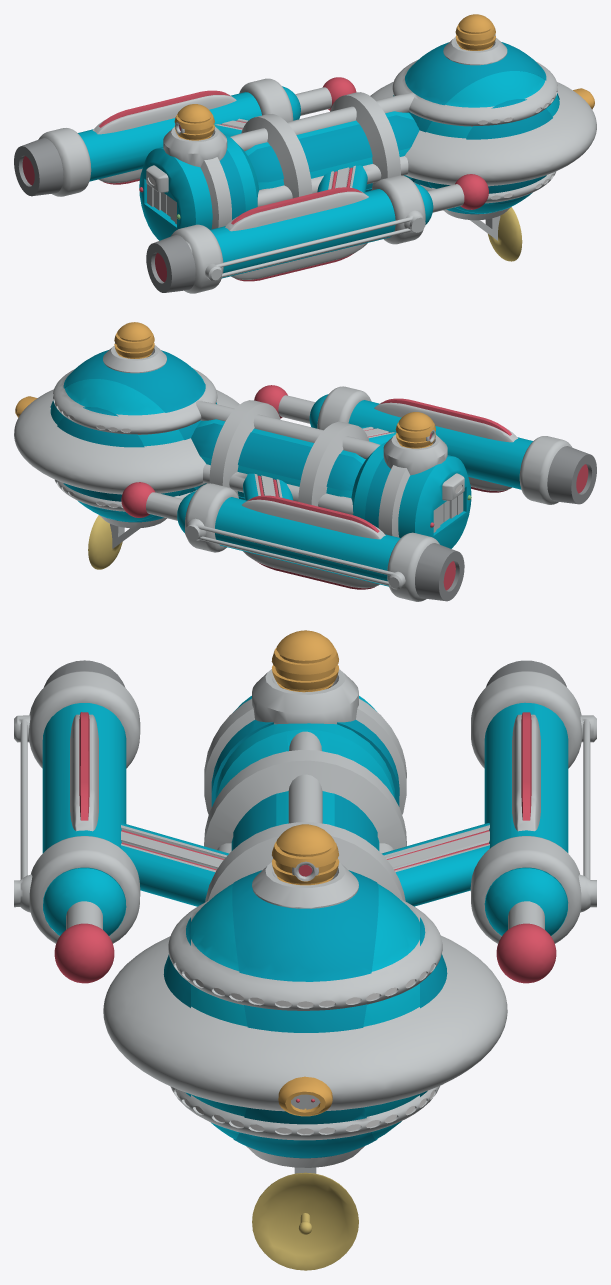
Rendered from ear-victory.glb.
The picture shows the model from 3 angles, top to bottom: view 1: azimuth 30°, elevation 25°; view 2: azimuth 150°, elevation 25°; view 3: azimuth 270°, elevation 25°; orthographic projection. The views are drawn at different scales.
Parts seen in each view (by area): view 1: Victory current hull - authored COLOR_0 regions; view 2: Victory current hull - authored COLOR_0 regions; view 3: Victory current hull - authored COLOR_0 regions.
Boxes of the visible parts, bbox=[...] form: Victory current hull - authored COLOR_0 regions: bbox=[14, 14, 596, 293]; Victory current hull - authored COLOR_0 regions: bbox=[14, 322, 596, 601]; Victory current hull - authored COLOR_0 regions: bbox=[14, 630, 596, 1270].
Size of the model in its own units: 5.66 by 2.73 by 3.45.
